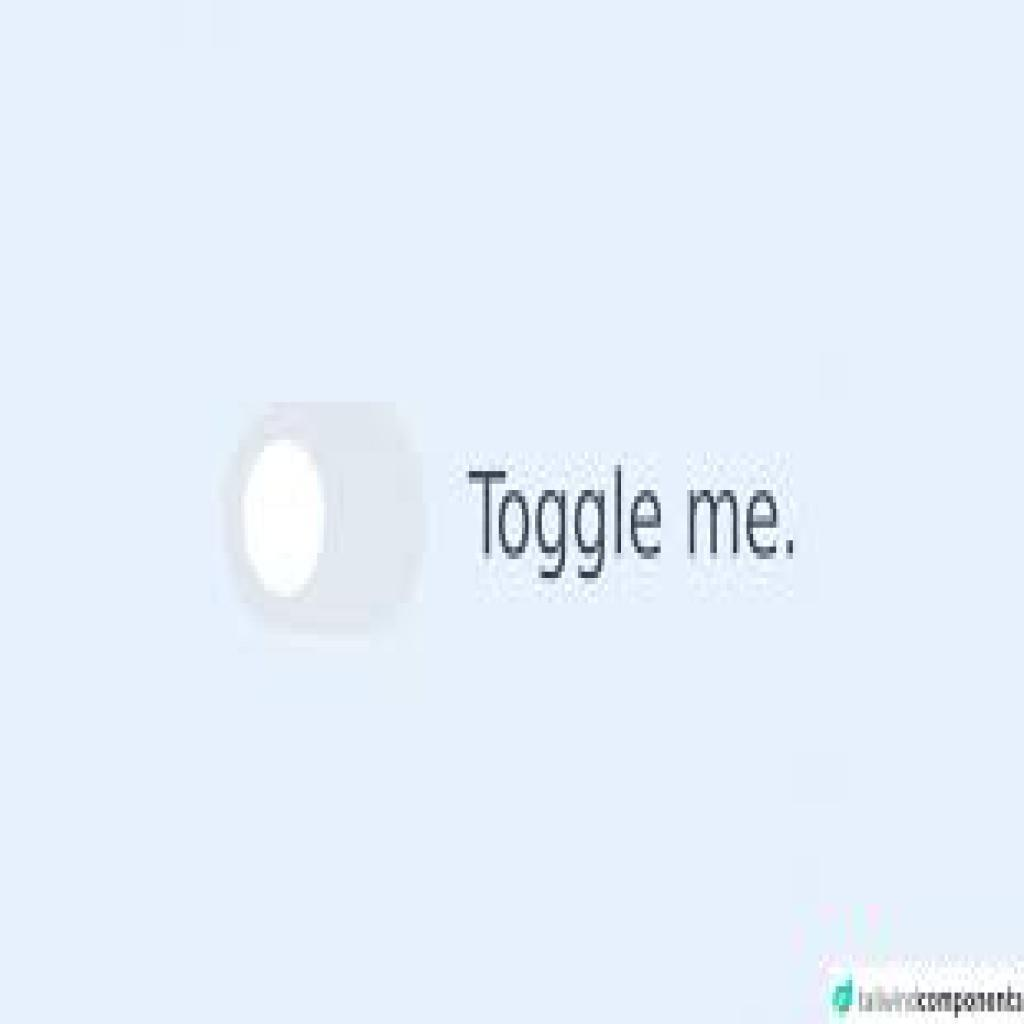switch: (217, 389, 446, 643)
